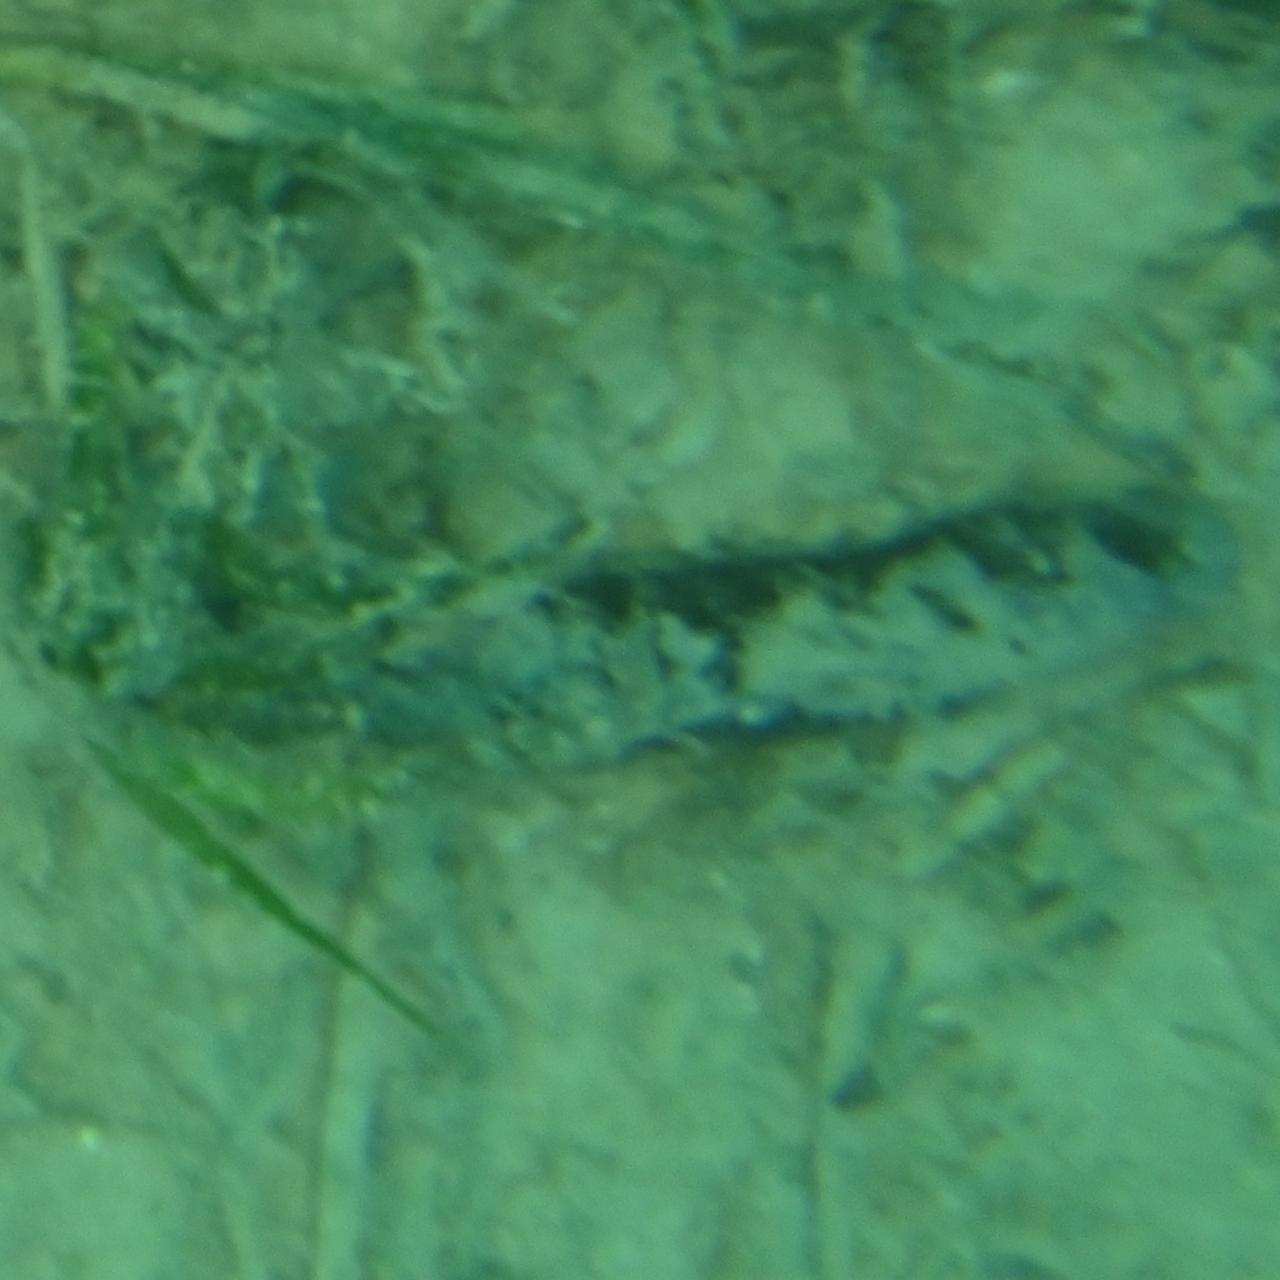Holothuria tubulosa: (24, 497, 1256, 783)
